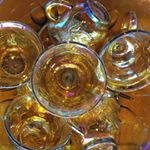cups: (30, 41, 108, 120)
